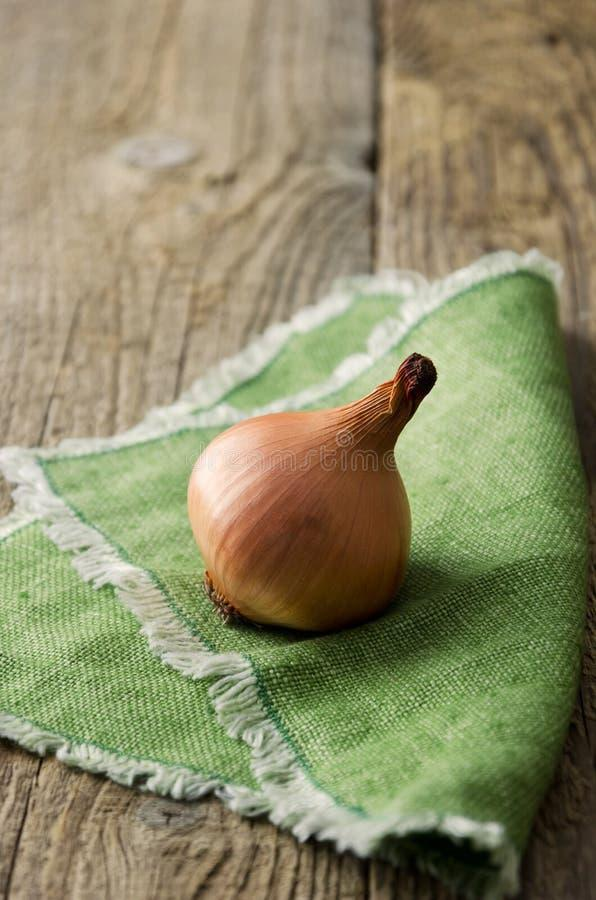Onion: (186, 352, 443, 635)
